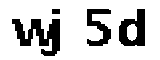5: (79, 6, 114, 51)
d: (118, 7, 151, 50)
j: (39, 4, 67, 60)
w: (7, 16, 52, 48)
